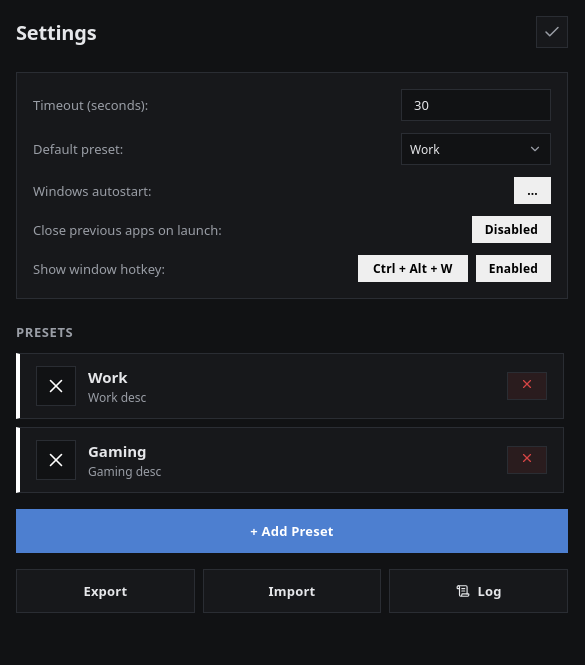
Test: SettingsView › exports presets to the chosen file and reports success
The image size is (585, 665).
Click the button "Export": [105, 591] box [16, 569, 195, 613]
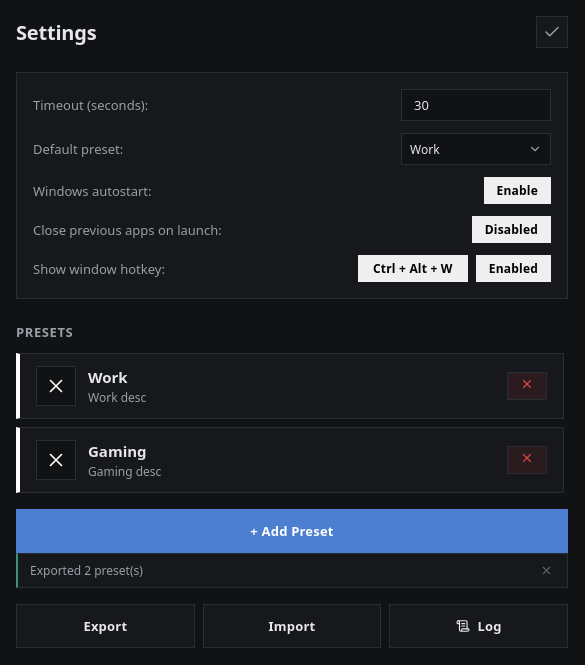
Result: the text "Exported 2 preset(s)" is shown at [30, 562, 143, 579]
